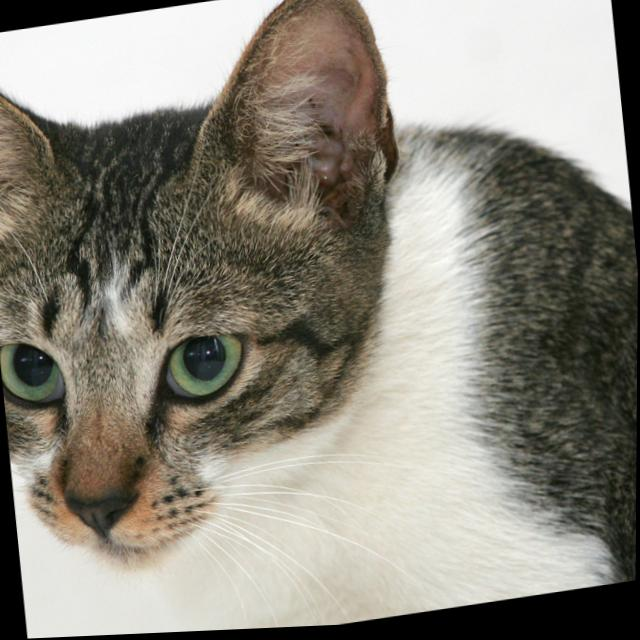animals: (0, 0, 390, 540)
